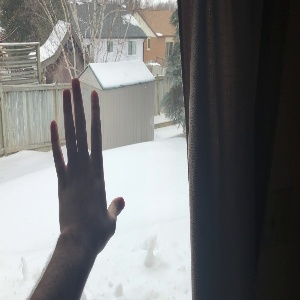hand: (50, 80, 125, 237)
